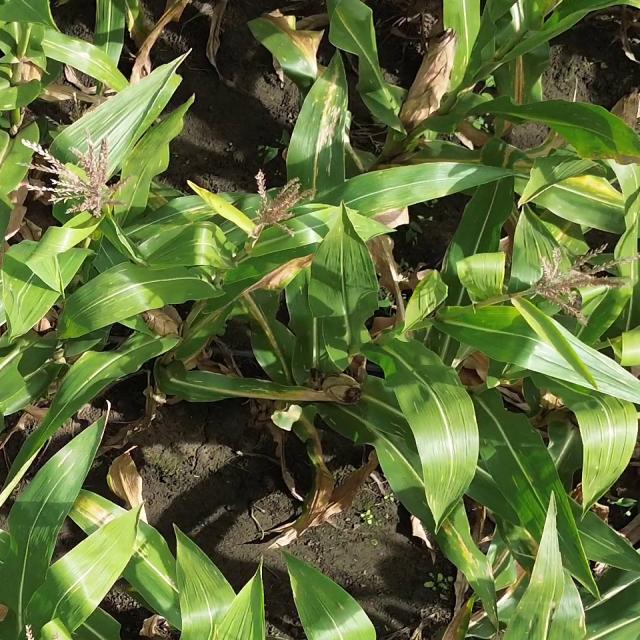gray-leaf-spot: (86, 499, 158, 563), (514, 586, 593, 639), (482, 434, 550, 494), (442, 510, 494, 588), (162, 364, 252, 402), (311, 78, 342, 168), (143, 198, 233, 228), (93, 270, 150, 314), (88, 101, 142, 146), (48, 451, 80, 524), (183, 539, 233, 584), (61, 35, 120, 72), (563, 108, 625, 142), (117, 148, 164, 192), (376, 408, 412, 463), (574, 186, 629, 219), (140, 234, 185, 266), (547, 221, 584, 257)
northern-leaf-blight: (502, 30, 540, 104)
